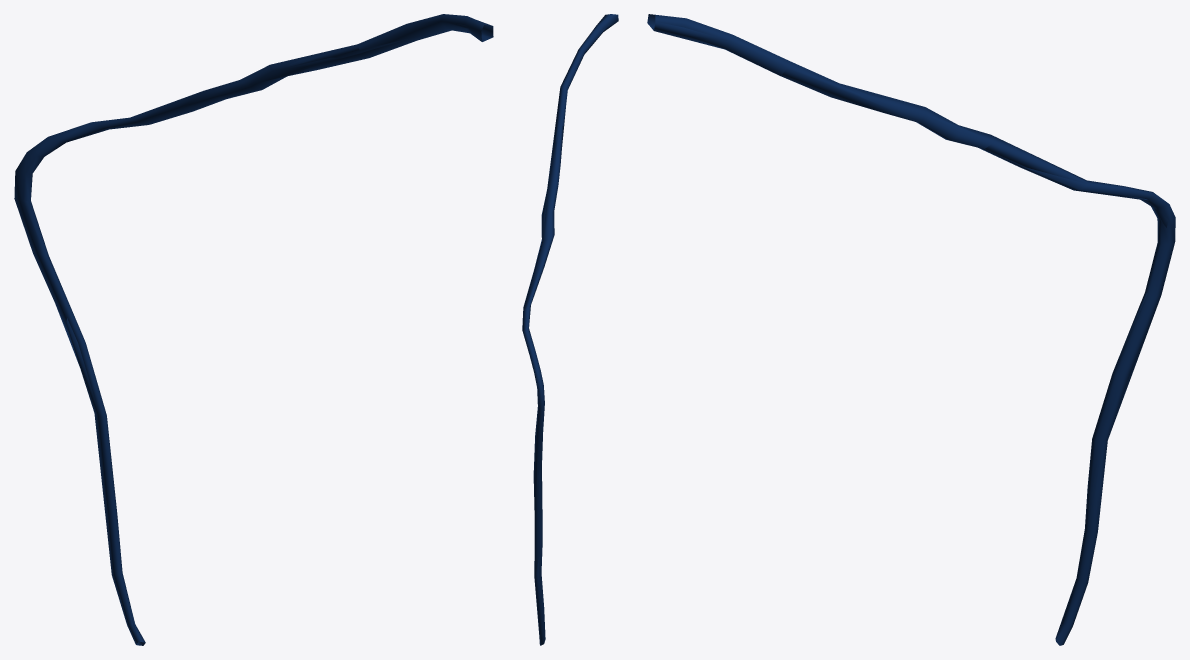
The model's file is R vena collateralis ulnaris.fbx.
3 renders of one model, left to right at view 1: azimuth 30°, elevation 25°; view 2: azimuth 150°, elevation 25°; view 3: azimuth 270°, elevation 25°, orthographic. The views are drawn at different scales.
Visible parts, largest first — view 1: R vena collateralis ulnaris, R vena collateralis ulnaris low; view 2: R vena collateralis ulnaris, R vena collateralis ulnaris low; view 3: R vena collateralis ulnaris, R vena collateralis ulnaris low.
Part boxes in pixels (<box>): R vena collateralis ulnaris: <box>14,14,493,645</box>; R vena collateralis ulnaris low: <box>14,21,492,645</box>; R vena collateralis ulnaris: <box>522,14,618,645</box>; R vena collateralis ulnaris low: <box>525,19,613,610</box>; R vena collateralis ulnaris: <box>651,15,1175,645</box>; R vena collateralis ulnaris low: <box>647,14,1174,633</box>.
Size of the model in its own units: 3.87 by 14.51 by 10.18.
